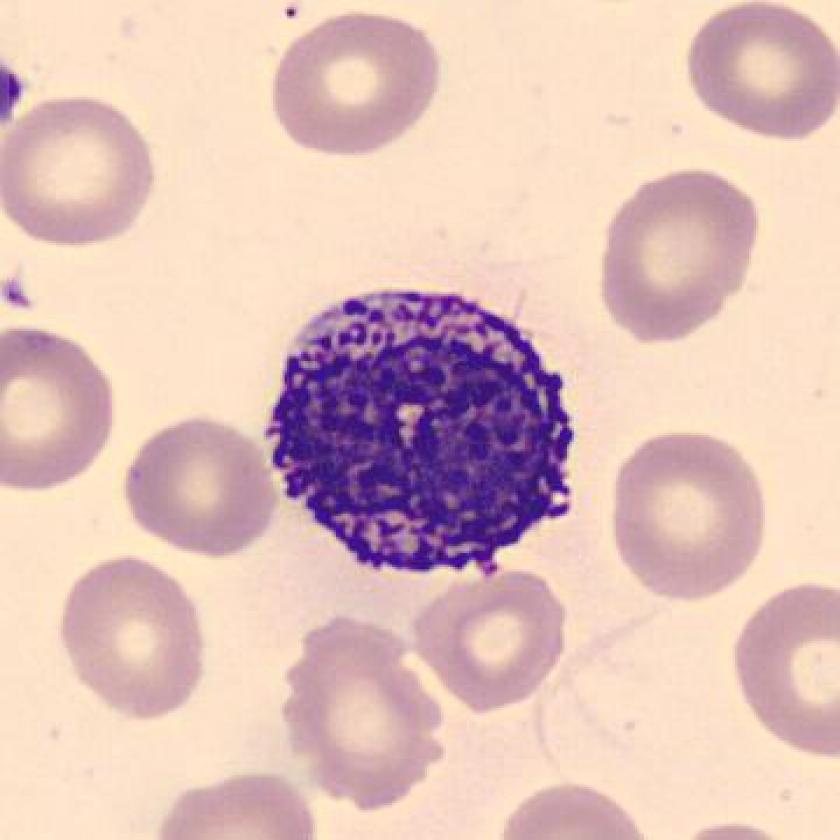basophil: (272, 286, 580, 575)
